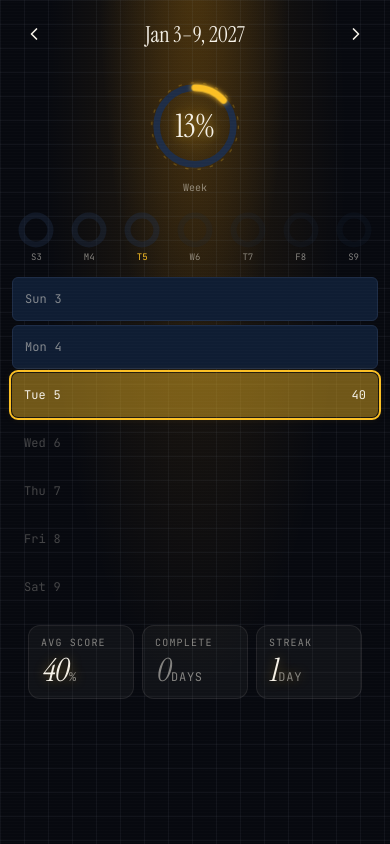
Test: C-m9d-003: WeekView — prev/next across month and year boundaries › navigating to W-yearcross renders rows 2026-12-27…2027-01-02 with correct label
Click the button named "Previous week": click(34, 34) [12,12,56,56]
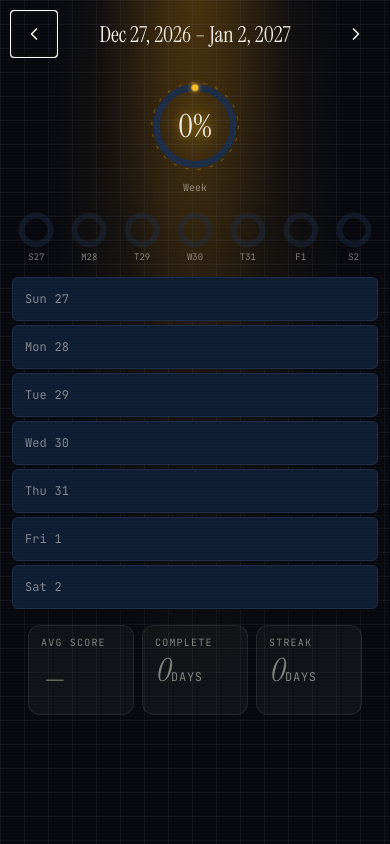
Check: the heading "Dec 27, 2026 – Jan 2, 2027" is shown, box [99,18,291,50]
Check: the text "27" is shown, box [55,290,69,308]
Check: the text "2" is shown, box [55,578,62,596]
